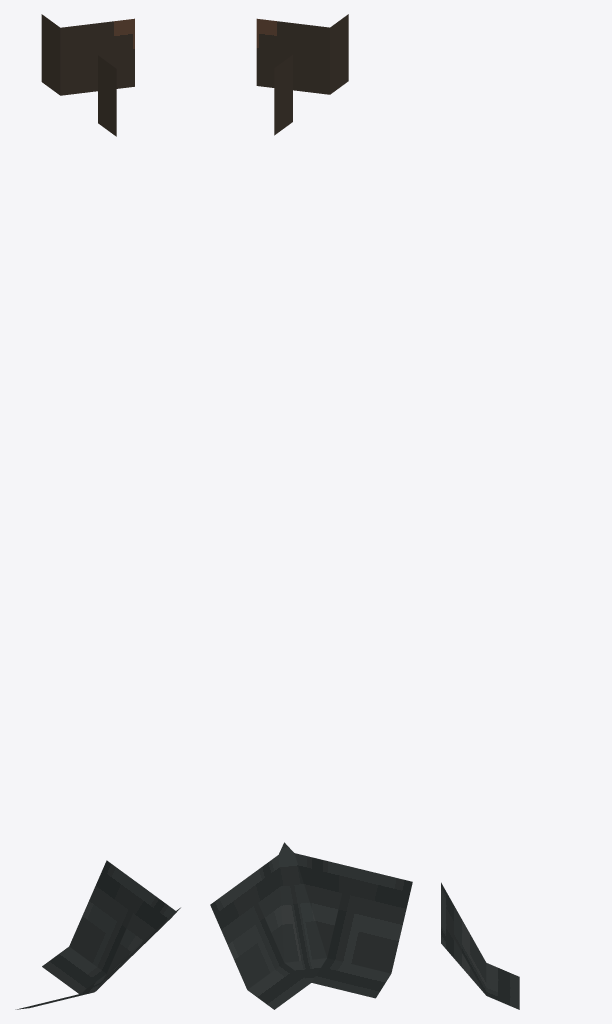
3 views of the same model, side by side, from view 1: azimuth 30°, elevation 25°; view 2: azimuth 150°, elevation 25°; view 3: azimuth 270°, elevation 25° (orthographic). The views are drawn at different scales.
Bounding box in the file's own units: 1 × 7 × 1.
Materials: 3 (3 with a texture image).
